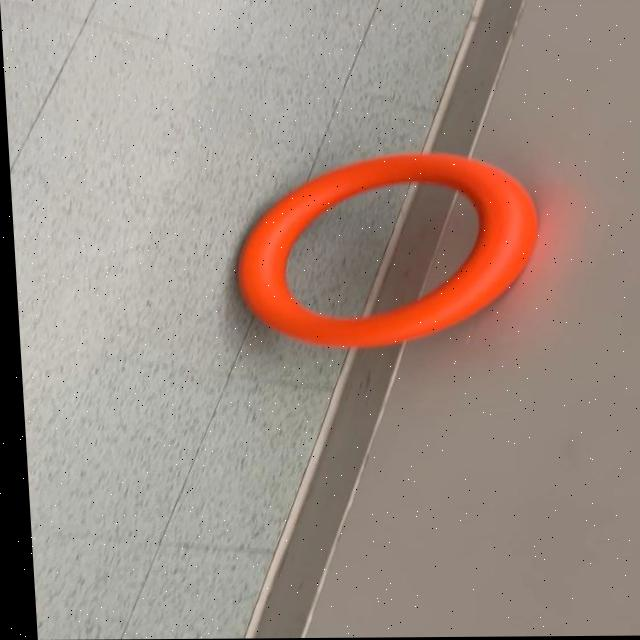note: (226, 151, 543, 351)
